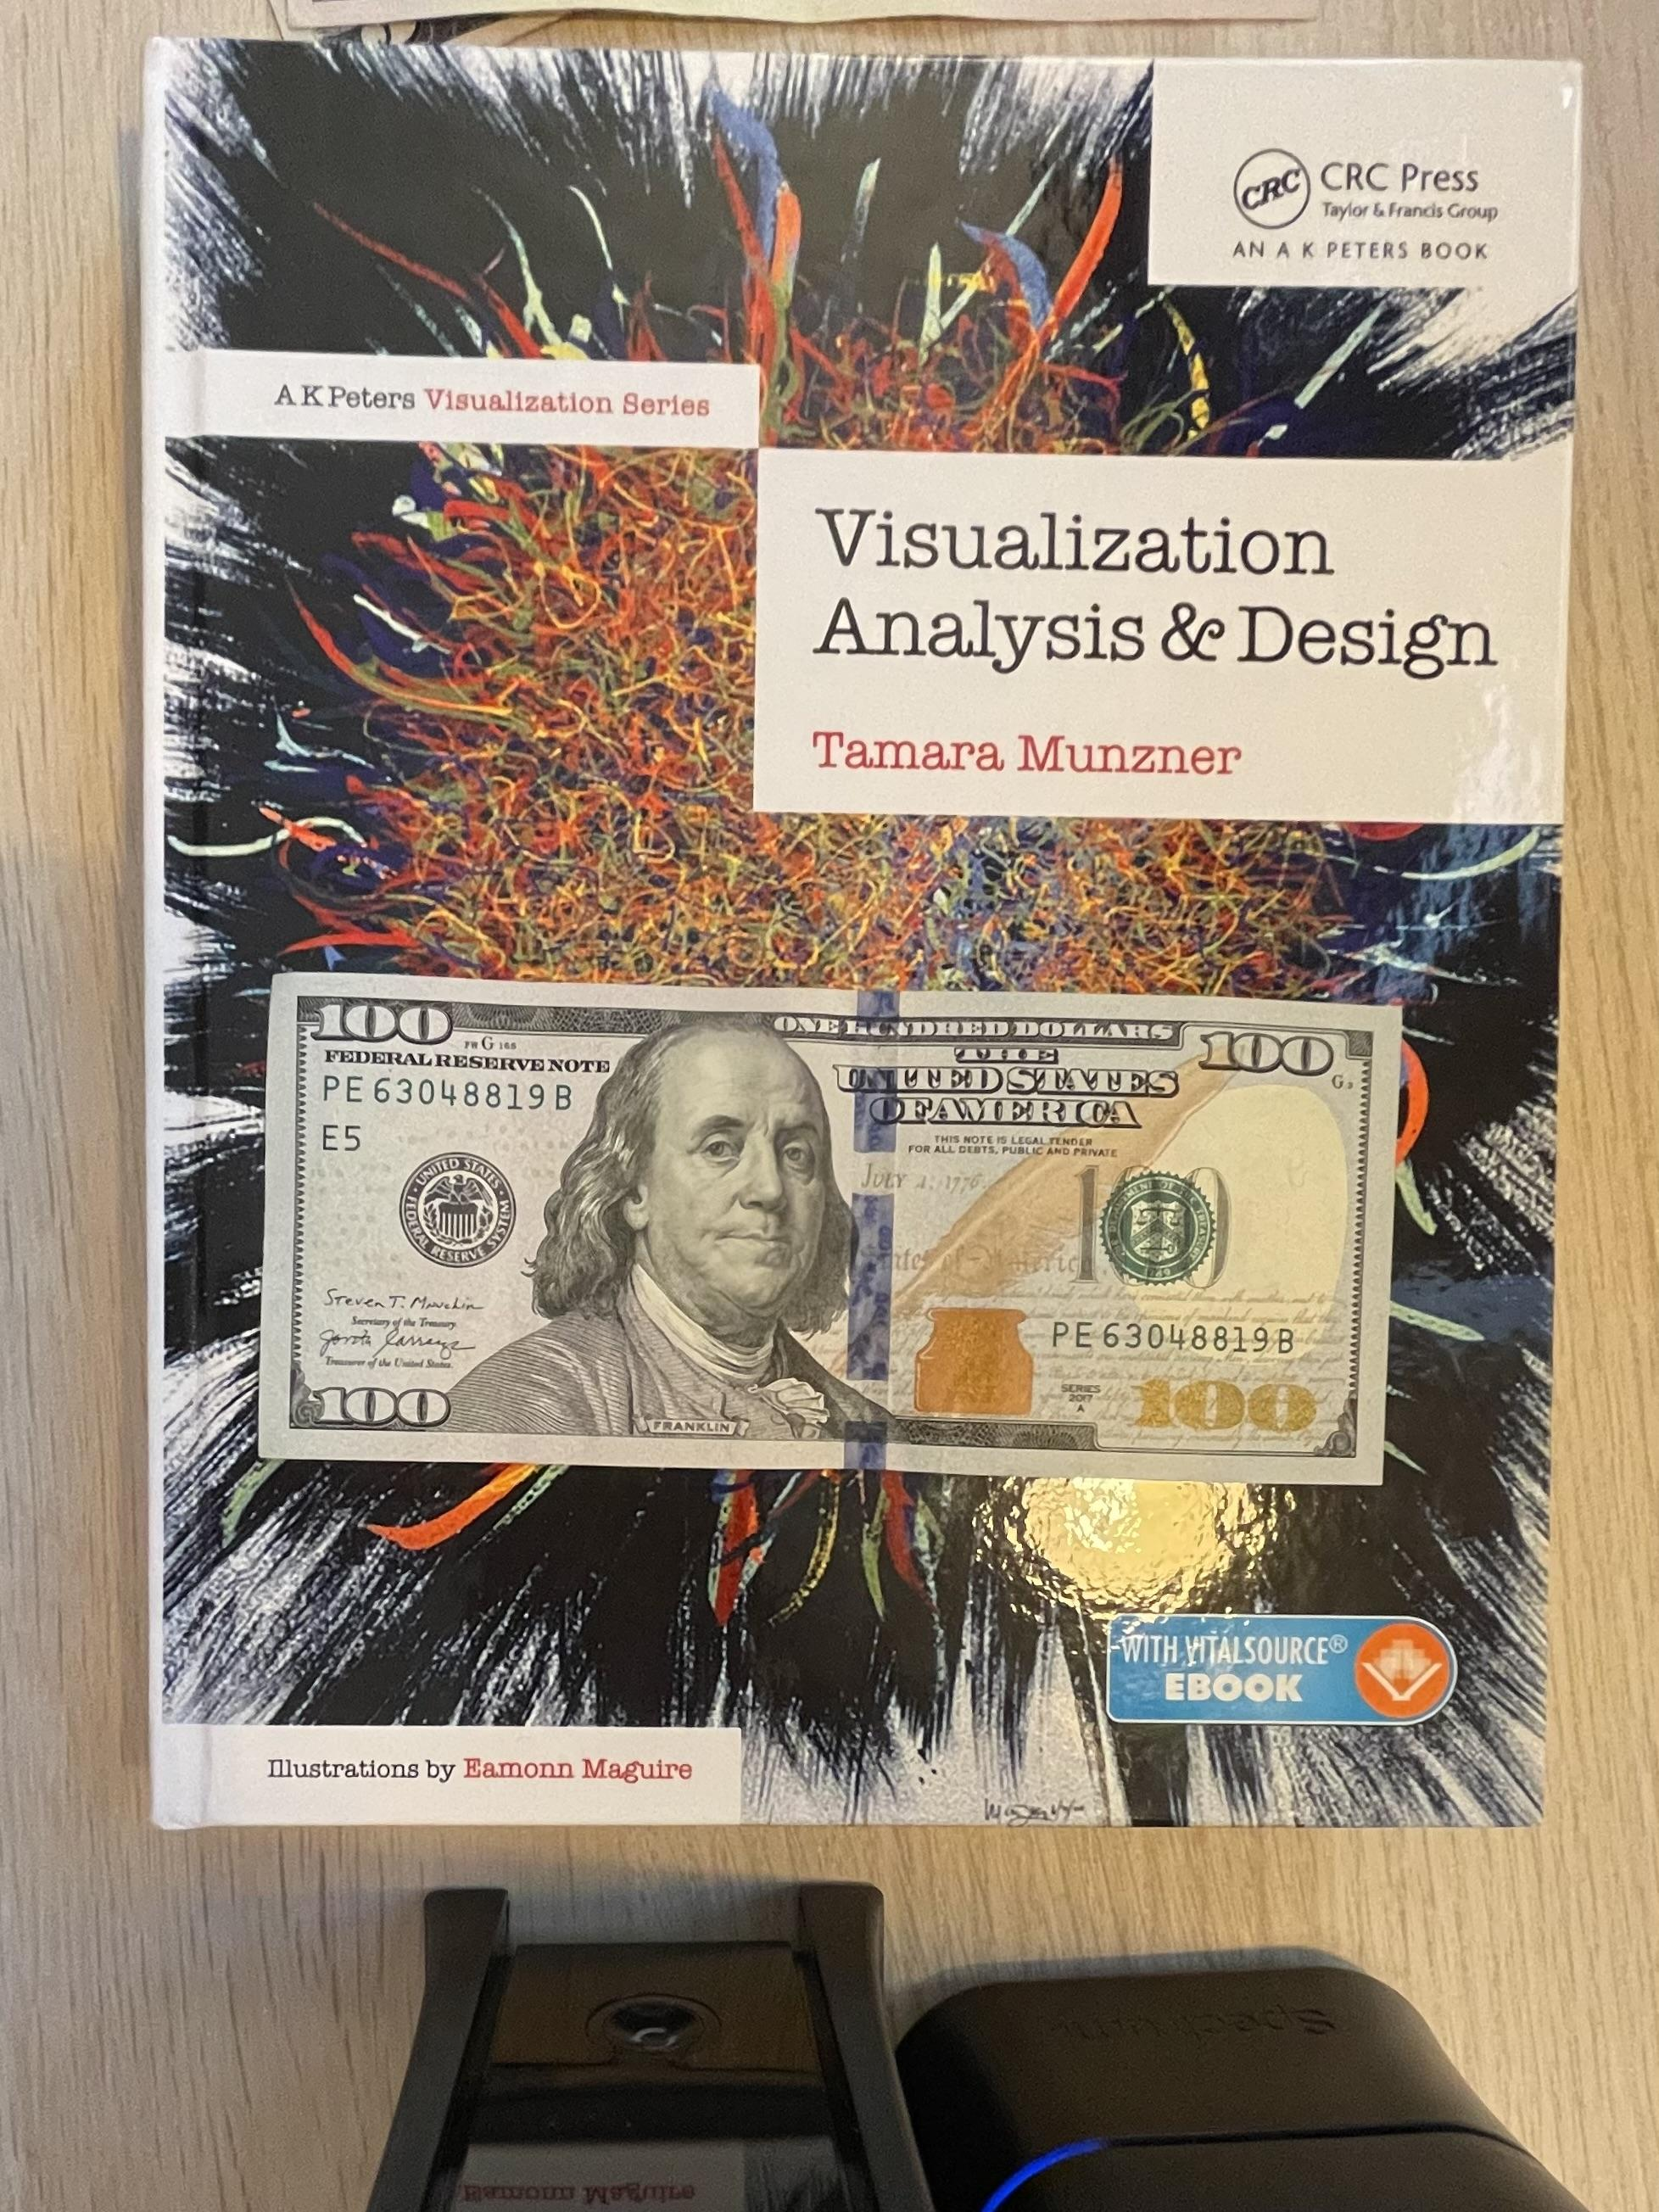HundredBill: (254, 970, 1405, 1486)
